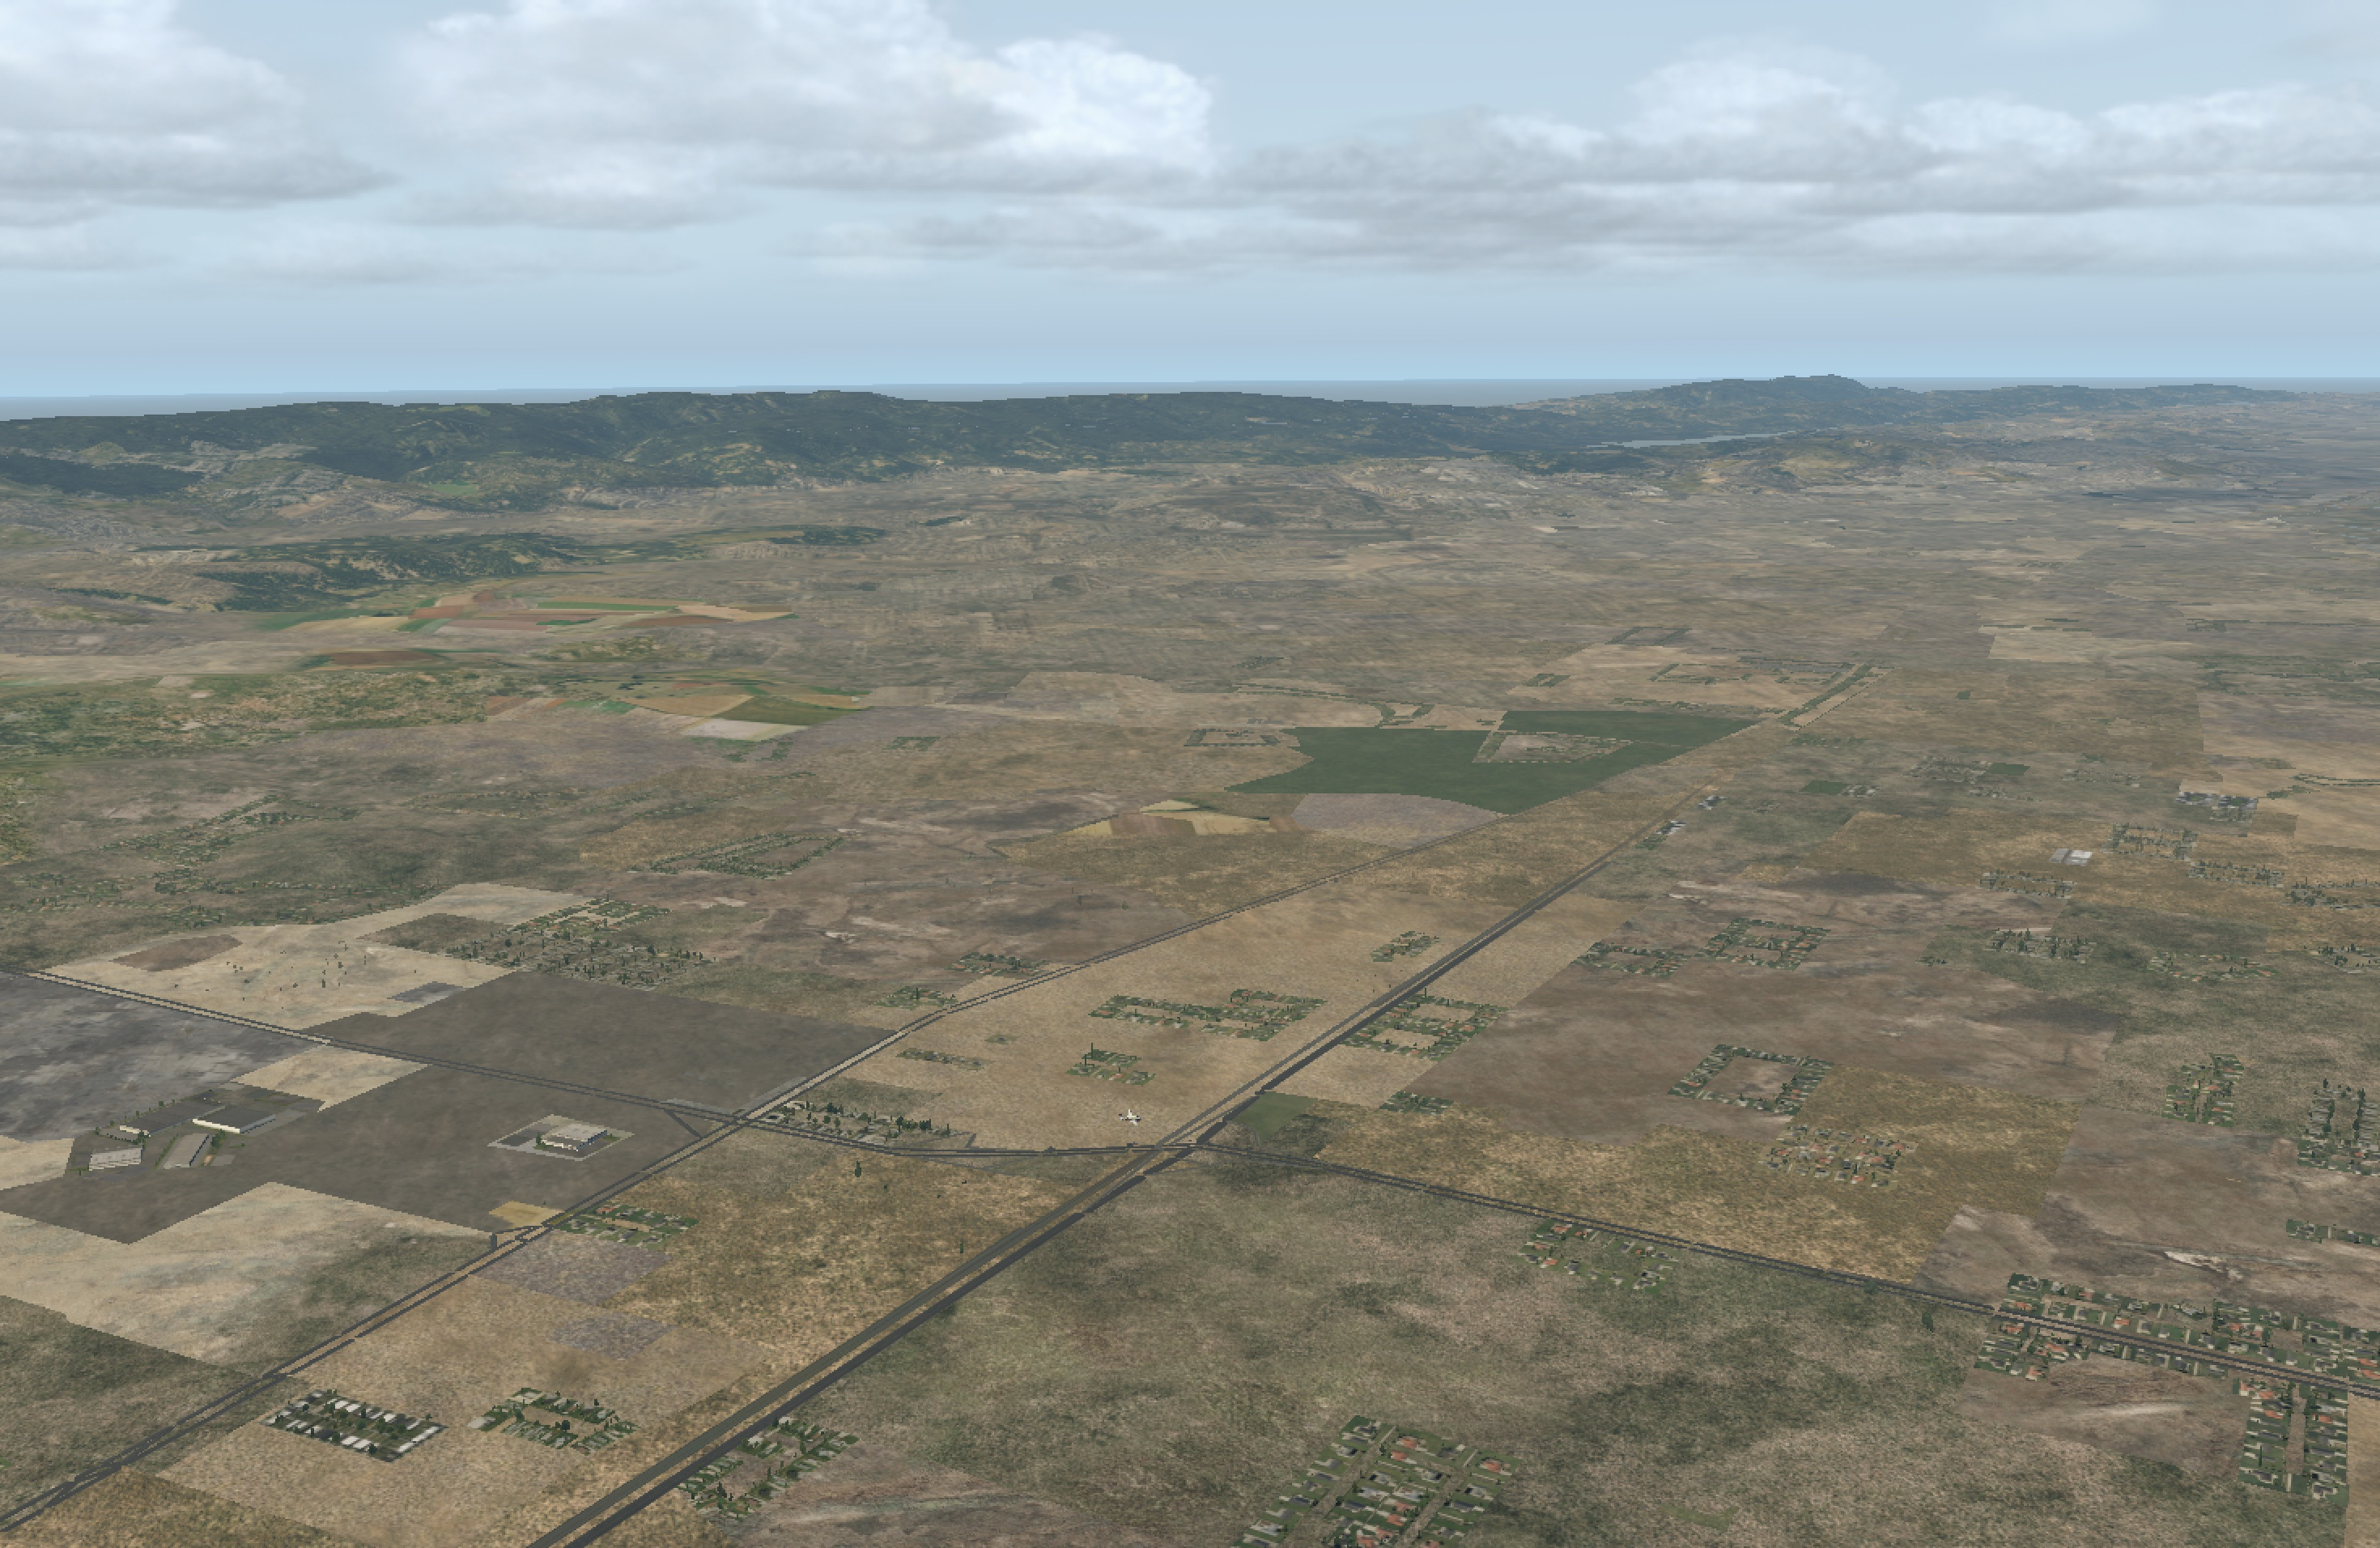aircraft: (1115, 1112, 1152, 1126)
